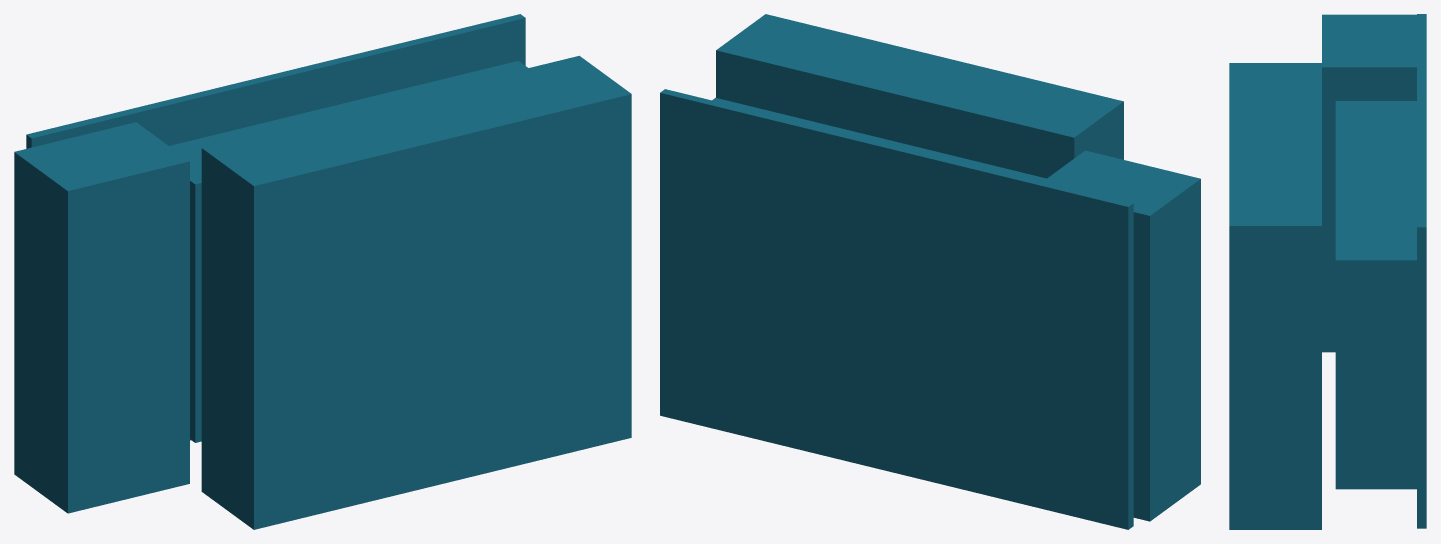
Rendered from computer.obj.
3 views of the same model, side by side, from view 1: azimuth 30°, elevation 25°; view 2: azimuth 150°, elevation 25°; view 3: azimuth 270°, elevation 25° (orthographic). The views are drawn at different scales.
Size of the model in its own units: 88 by 56.5 by 33.2.
